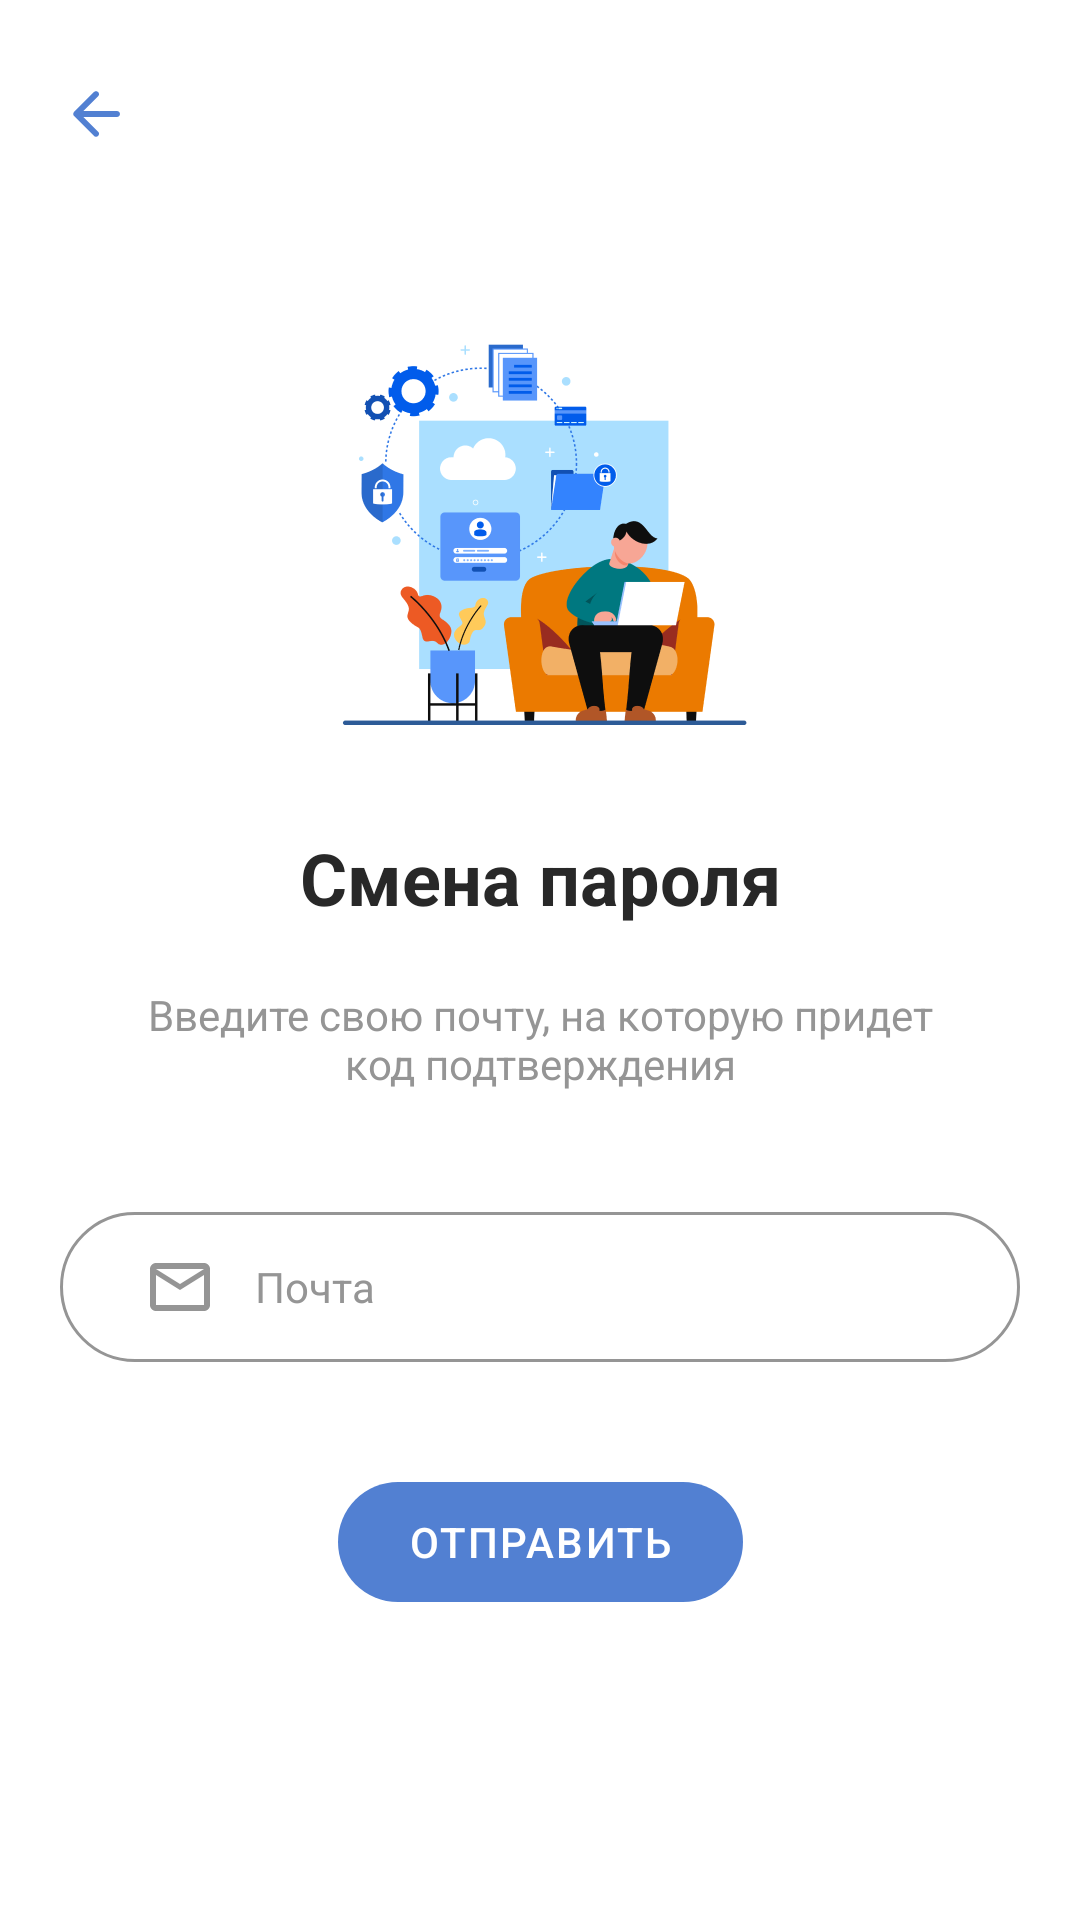

Screen size 1080px x 1920px. Icon name, then its box in pixels as (x1, y1, x2, y2):
back: (73, 91, 120, 137)
